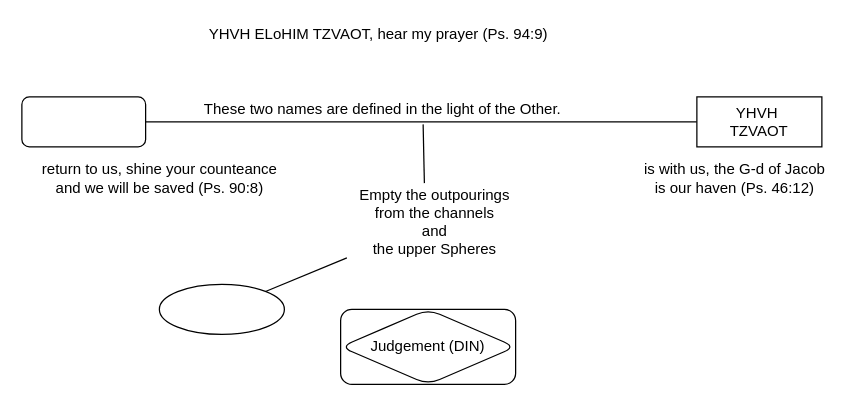
This 856x406 diagram has some shape labels left out. The box of each missing label's shape, as (x1, y1, x2, y2) in pixels:
EL CHaY: (158, 283, 284, 334)
ELoHiM TZVAOT: (21, 96, 146, 147)
